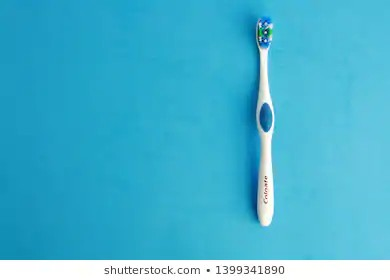toothbrush: (247, 15, 285, 229)
